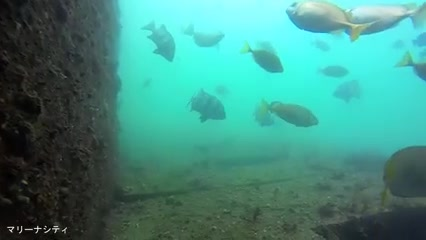azi: (284, 1, 370, 43)
smallfish: (237, 35, 301, 89), (258, 96, 322, 132), (140, 21, 183, 64), (185, 89, 232, 125)
